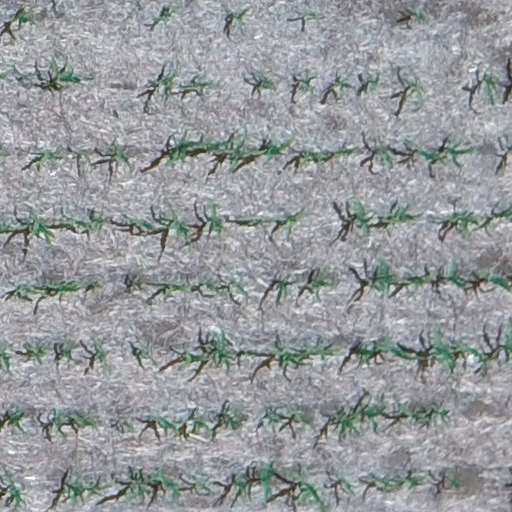planta: (365, 257, 438, 295), (191, 137, 268, 169), (349, 336, 426, 366), (150, 136, 209, 171), (6, 279, 85, 302), (196, 330, 234, 376), (267, 346, 315, 370), (332, 404, 365, 438), (25, 213, 60, 245), (159, 212, 193, 244), (162, 352, 213, 373), (444, 209, 482, 237), (214, 405, 246, 436), (50, 60, 84, 89), (59, 215, 107, 235), (380, 205, 419, 229), (150, 415, 186, 440), (351, 198, 374, 237), (260, 137, 295, 161), (34, 149, 72, 171), (441, 141, 475, 164), (184, 415, 214, 440), (206, 202, 226, 239), (155, 282, 196, 300), (296, 149, 331, 170), (299, 342, 342, 359), (444, 259, 466, 292), (154, 70, 179, 99), (413, 144, 450, 163), (8, 6, 36, 31), (276, 212, 307, 233), (397, 401, 431, 420), (362, 402, 385, 430), (307, 273, 337, 294), (415, 405, 450, 423), (401, 80, 424, 107), (275, 278, 301, 301), (70, 413, 100, 432), (26, 343, 52, 363), (183, 80, 211, 98), (110, 144, 133, 165), (376, 145, 397, 168), (200, 280, 230, 296), (287, 406, 311, 426), (128, 217, 159, 232), (51, 408, 69, 433), (240, 217, 273, 230), (156, 6, 178, 25), (329, 78, 354, 94), (93, 342, 108, 366), (330, 147, 355, 160), (62, 341, 77, 362), (232, 8, 248, 27), (265, 411, 285, 426), (259, 74, 276, 90), (365, 76, 381, 92), (299, 78, 315, 93), (86, 280, 103, 294), (233, 281, 248, 296), (412, 10, 427, 22), (131, 276, 143, 291), (137, 347, 151, 359), (474, 280, 486, 292), (123, 420, 135, 432), (362, 416, 365, 419)
